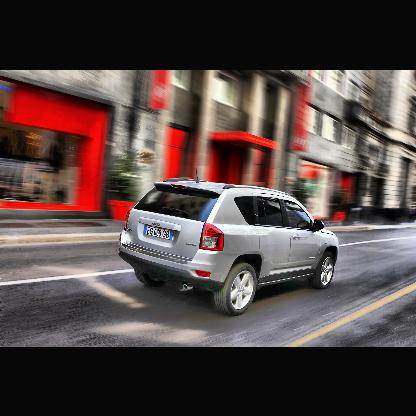Jeep Compass SUV 2012: (120, 178, 341, 317)
